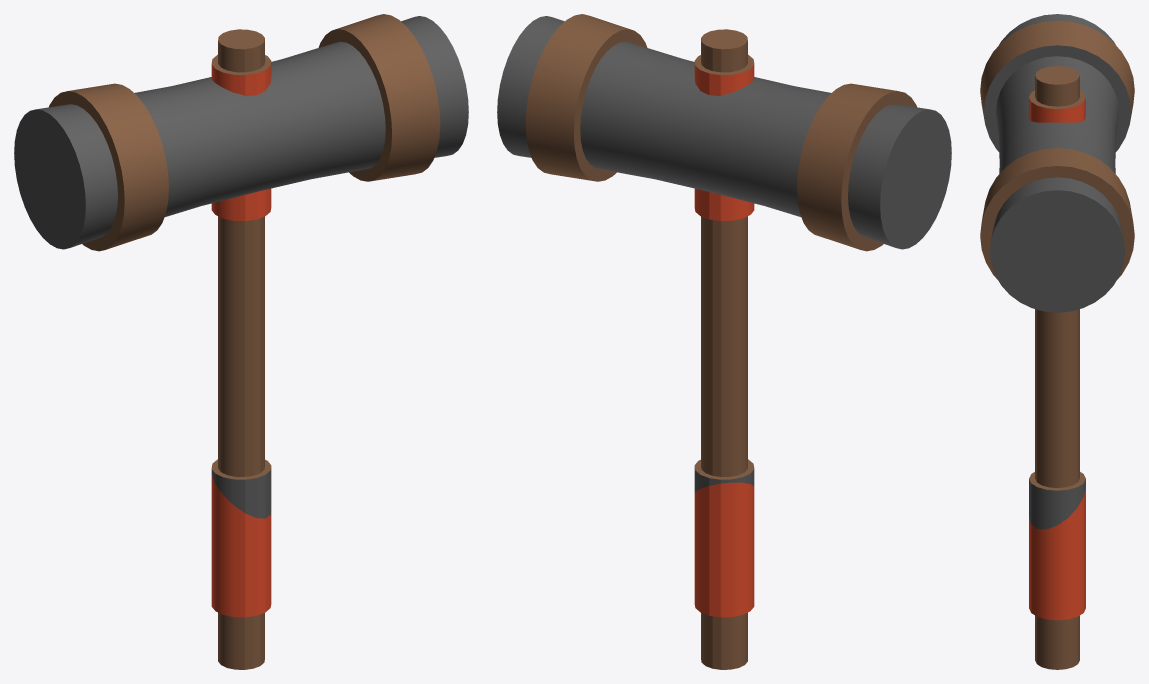
The model's file is Hammer.fbx.
3 renders of one model, left to right at view 1: azimuth 30°, elevation 25°; view 2: azimuth 150°, elevation 25°; view 3: azimuth 270°, elevation 25°, orthographic. The views are drawn at different scales.
Parts seen in each view (by area): view 1: Hammer; view 2: Hammer; view 3: Hammer.
Boxes of the visible parts, <box> form: Hammer: <box>14,14,468,669</box>; Hammer: <box>497,14,951,669</box>; Hammer: <box>980,14,1134,669</box>.
Size of the model in its own units: 119 by 185 by 44.25.
